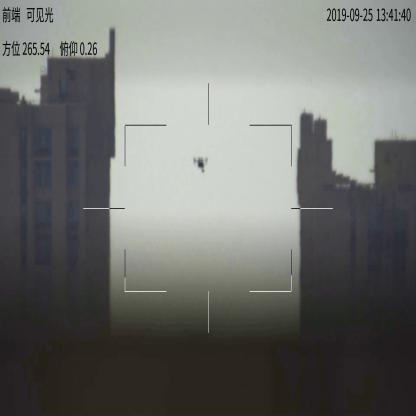uav: (190, 152, 210, 179)
